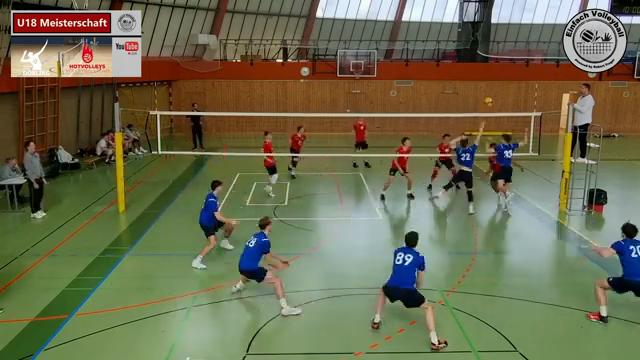attacco: (426, 121, 490, 219), (485, 124, 529, 217)
